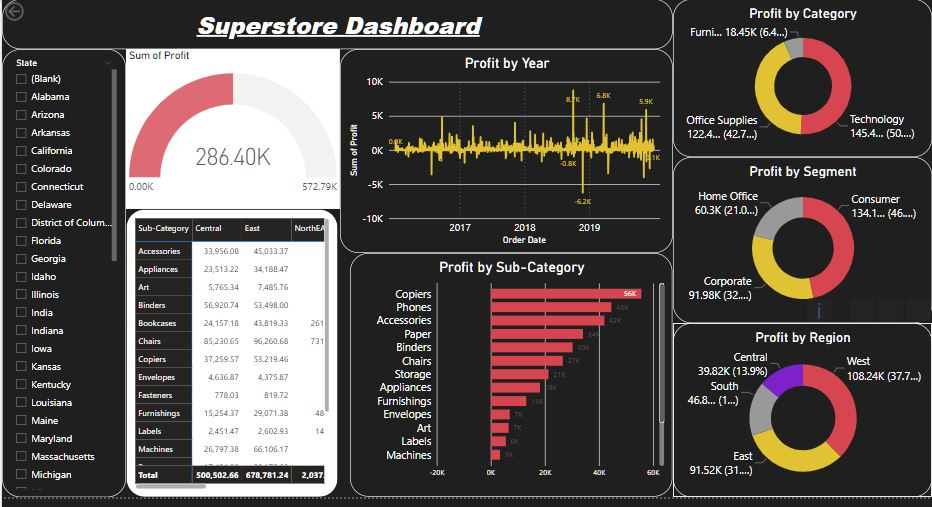

The page's visual inventory and layout, read from the dashboard file:
{"tool":"powerbi","page":{"name":"Superstore Dashboard","canvas":[1500,804],"ordinal":0},"visuals":[{"type":"textbox","box":[0,0,1082.3,80.6],"z":0},{"type":"donutChart","title":"Profit by Category","fields":{"Category":["Orders.Category"],"Y":["Sum(Orders.Profit)"]},"box":[1082.3,0,417.7,254.8],"z":1000},{"type":"donutChart","title":"Profit by Segment","fields":{"Y":["Sum(Orders.Profit)"],"Category":["Orders.Segment"]},"box":[1082.3,254.8,417.7,267.7],"z":2000},{"type":"donutChart","title":"Profit by Region","fields":{"Y":["Sum(Orders.Profit)"],"Category":["Orders.Region"]},"box":[1082.3,522.6,417.7,280.6],"z":3000},{"type":"barChart","title":"Profit by Sub-Category","fields":{"Category":["Orders.Sub-Category"],"Y":["Sum(Orders.Profit)"]},"box":[561.7,410,520,393.3],"z":4000},{"type":"lineChart","title":" Profit by Year","fields":{"Category":["Orders.Order Date"],"Y":["Sum(Orders.Profit)"]},"box":[545.2,80.6,537.1,329],"z":5000},{"type":"slicer","fields":{"Values":["Orders.State"]},"box":[0,80.6,200,722.6],"z":5001},{"type":"actionButton","box":[0,0,100,40],"z":5002},{"type":"pivotTable","fields":{"Rows":["Orders.Sub-Category"],"Values":["Sum(Orders.Sales)"],"Columns":["Orders.Region"]},"box":[200,338.7,341.9,464.5],"z":5003},{"type":"gauge","fields":{"Y":["Sum(Orders.Profit)"]},"box":[200,80.6,345.2,258.1],"z":5004}]}

Visuals, with their boxes in screenshot pixels (x1, y1, x2, y2), scaled from the page's 1500x804 canvas onto the 932x507 screenshot:
textbox: x1=0, y1=0, x2=672, y2=51
"Profit by Category" donutChart: x1=672, y1=0, x2=931, y2=161
"Profit by Segment" donutChart: x1=672, y1=161, x2=931, y2=329
"Profit by Region" donutChart: x1=672, y1=330, x2=931, y2=506
"Profit by Sub-Category" barChart: x1=349, y1=259, x2=672, y2=506
" Profit by Year" lineChart: x1=339, y1=51, x2=672, y2=258
slicer - Orders.State: x1=0, y1=51, x2=124, y2=506
actionButton: x1=0, y1=0, x2=62, y2=25
pivotTable - Orders.Sub-Category x Sum(Orders.Sales): x1=124, y1=214, x2=337, y2=506
gauge - Sum(Orders.Profit): x1=124, y1=51, x2=339, y2=214
